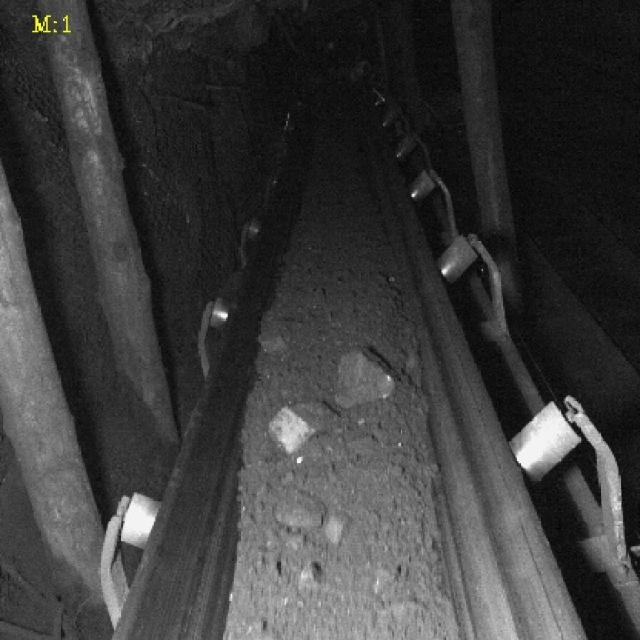large_sized_coal: (264, 396, 342, 462), (274, 489, 348, 551), (328, 349, 400, 409)
